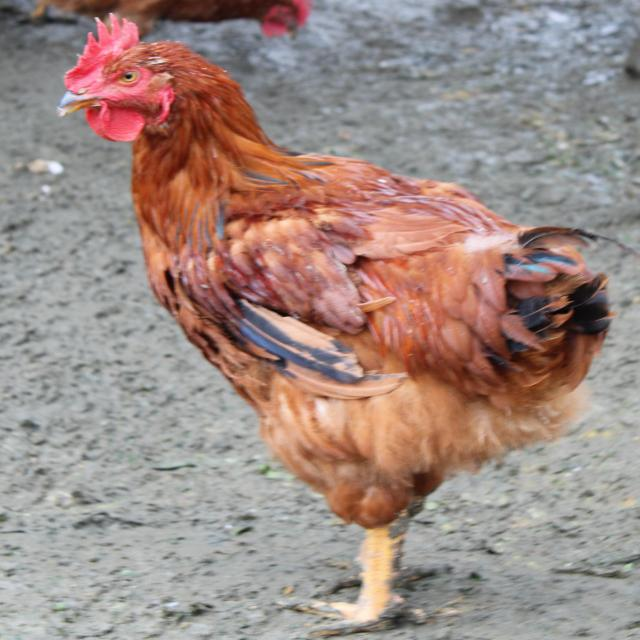cook: (59, 18, 612, 634)
